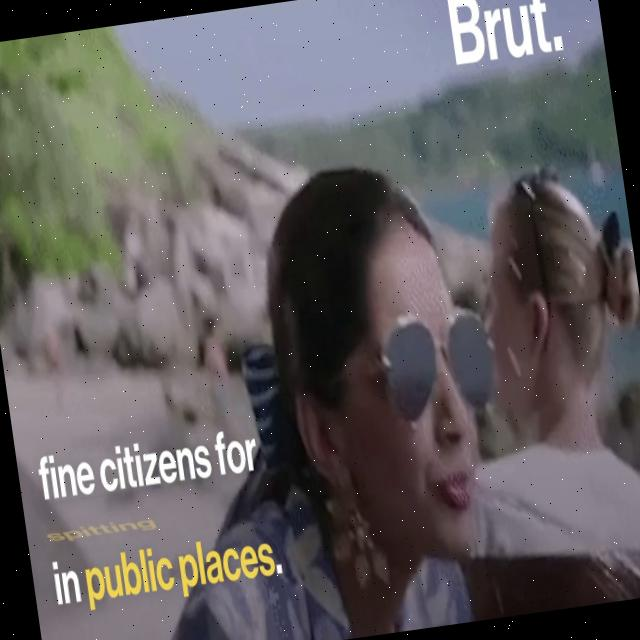spit: (314, 262, 640, 593)
